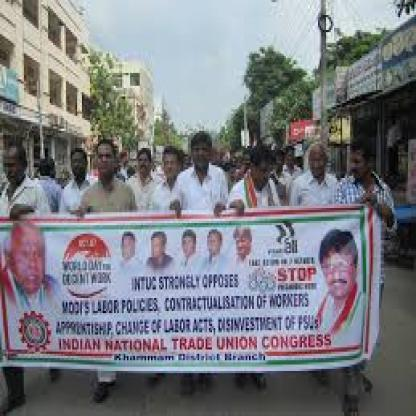BANNER: (0, 204, 381, 395)
